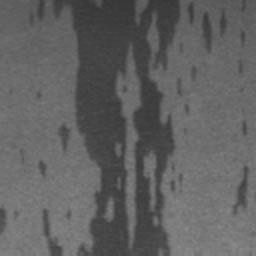Red iron sheet: (37, 0, 228, 256), (177, 67, 198, 114), (44, 210, 63, 256), (233, 165, 250, 216), (38, 160, 46, 177), (0, 207, 5, 233), (237, 60, 244, 73), (241, 31, 246, 47), (242, 120, 247, 136)
